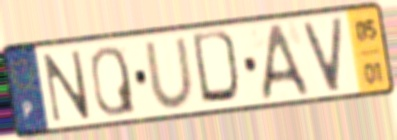A: (260, 20, 313, 104)
D: (189, 27, 246, 107)
N: (41, 48, 93, 126)
Q: (88, 44, 139, 119)
U: (140, 34, 198, 111)
V: (300, 14, 345, 96)
